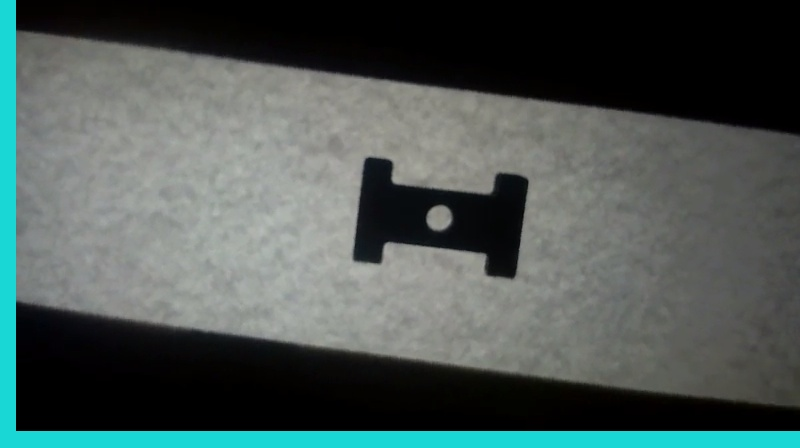O002: (346, 155, 530, 282)
